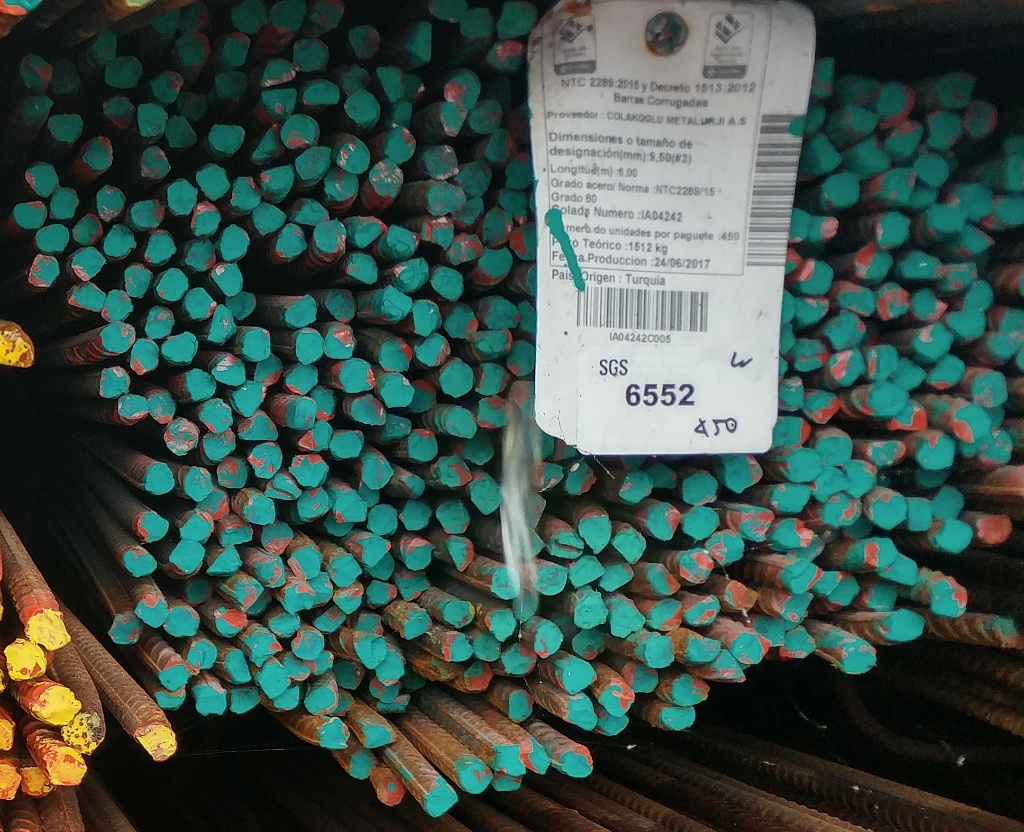dipstick: (777, 556, 826, 594), (641, 497, 684, 540), (719, 455, 765, 495), (730, 501, 774, 542), (433, 453, 475, 494), (974, 508, 1016, 549), (918, 427, 961, 466), (856, 382, 902, 418), (472, 245, 512, 286), (681, 590, 722, 630), (866, 489, 907, 529), (874, 281, 915, 321), (604, 599, 646, 638), (913, 323, 955, 362), (838, 101, 881, 139), (763, 482, 809, 517), (641, 561, 682, 600), (839, 278, 878, 319), (770, 519, 817, 553), (950, 290, 984, 337), (373, 371, 415, 409), (931, 518, 974, 555), (480, 296, 521, 334), (955, 183, 997, 220), (707, 649, 749, 686), (770, 588, 813, 623), (497, 5, 542, 38), (609, 525, 647, 564), (937, 69, 975, 108), (559, 656, 598, 694), (985, 187, 1024, 225), (422, 145, 459, 185), (478, 207, 518, 244), (899, 250, 939, 287), (471, 328, 513, 363), (840, 641, 882, 676), (405, 379, 443, 417), (576, 515, 614, 553), (444, 73, 483, 110), (675, 546, 715, 582), (645, 594, 686, 629), (850, 140, 891, 175), (457, 162, 495, 199), (830, 351, 867, 389), (875, 86, 913, 123), (925, 113, 963, 150), (976, 427, 1014, 464), (345, 216, 385, 251), (707, 529, 747, 564), (927, 355, 967, 390), (424, 182, 465, 216), (837, 73, 878, 107), (563, 462, 600, 499), (442, 405, 480, 441), (546, 525, 584, 561), (873, 210, 909, 248), (681, 471, 720, 506), (815, 429, 850, 468), (420, 782, 459, 817), (505, 340, 539, 380), (954, 404, 988, 444), (285, 547, 326, 580), (344, 251, 380, 288), (438, 361, 475, 397), (807, 139, 843, 176), (886, 120, 923, 156), (940, 259, 977, 295), (360, 453, 395, 491), (336, 358, 374, 393), (719, 579, 758, 613), (828, 314, 868, 347), (681, 506, 722, 538), (842, 458, 878, 494), (335, 135, 370, 172), (296, 145, 331, 182), (422, 214, 457, 251), (470, 101, 505, 138), (497, 188, 534, 223), (863, 345, 900, 380), (280, 582, 318, 616), (368, 164, 406, 198), (826, 172, 859, 211), (474, 397, 514, 429), (615, 471, 655, 503), (885, 610, 926, 641), (332, 490, 368, 525), (383, 225, 419, 260), (503, 154, 538, 190), (799, 259, 834, 295), (796, 338, 831, 374), (930, 583, 966, 618), (472, 362, 509, 396), (802, 389, 839, 423), (865, 578, 902, 612), (466, 480, 505, 512), (669, 676, 708, 708), (926, 203, 966, 234), (290, 453, 326, 487), (323, 169, 357, 205), (347, 24, 383, 58), (857, 248, 893, 282), (863, 536, 899, 570), (566, 696, 602, 730), (573, 592, 610, 625), (567, 557, 604, 590), (222, 650, 255, 687), (105, 60, 143, 92), (290, 197, 328, 229), (380, 65, 412, 103), (896, 403, 934, 435), (384, 127, 418, 162), (484, 605, 519, 639), (596, 559, 630, 594), (507, 592, 543, 625), (931, 487, 967, 520), (881, 168, 919, 199), (775, 418, 809, 452), (283, 396, 318, 429), (377, 409, 412, 442), (303, 79, 338, 112), (454, 232, 487, 267), (489, 38, 524, 71), (326, 430, 362, 462), (266, 472, 302, 504), (396, 255, 428, 291), (601, 684, 637, 716), (626, 662, 662, 694), (298, 486, 332, 519), (380, 338, 413, 372), (435, 105, 468, 139), (796, 293, 829, 327), (209, 124, 244, 156), (813, 469, 848, 501), (902, 498, 934, 533), (684, 636, 719, 668), (432, 266, 462, 303), (511, 222, 541, 259), (528, 618, 565, 648), (912, 156, 949, 186), (281, 118, 314, 151), (313, 222, 346, 255), (175, 33, 209, 65), (296, 41, 330, 73), (416, 334, 450, 366), (294, 330, 325, 365), (444, 535, 475, 570), (913, 290, 948, 321), (405, 25, 435, 61), (359, 717, 395, 747), (561, 747, 597, 777), (27, 165, 59, 198), (286, 297, 318, 330), (335, 580, 368, 612), (352, 396, 385, 428), (321, 326, 354, 358), (323, 288, 355, 321), (484, 130, 517, 162), (250, 131, 284, 162), (347, 93, 381, 124), (445, 304, 476, 338), (491, 565, 522, 599), (463, 8, 497, 39), (865, 540, 899, 571), (822, 574, 856, 605), (892, 358, 926, 389), (356, 636, 390, 667), (787, 453, 822, 483), (303, 687, 338, 717), (811, 58, 836, 99), (164, 333, 196, 365), (286, 364, 318, 396), (399, 537, 431, 569), (454, 195, 486, 227), (85, 33, 118, 64), (73, 247, 104, 280), (170, 543, 203, 574), (330, 555, 363, 586), (400, 499, 433, 530), (526, 427, 557, 460), (504, 689, 537, 720), (983, 330, 1014, 363), (214, 70, 248, 100), (243, 327, 273, 361), (806, 214, 840, 244), (597, 705, 631, 735), (435, 503, 470, 532), (514, 261, 543, 296), (730, 635, 765, 664), (85, 137, 116, 169), (357, 534, 389, 565), (444, 598, 476, 629), (197, 686, 228, 718), (96, 187, 126, 220), (104, 227, 134, 260), (302, 422, 332, 455), (380, 289, 413, 319), (411, 301, 441, 334), (533, 464, 566, 494), (259, 90, 294, 118), (870, 438, 905, 466), (783, 627, 820, 653), (966, 102, 992, 139), (199, 402, 231, 432), (215, 458, 247, 488), (250, 446, 282, 476), (222, 34, 252, 66), (366, 508, 398, 538), (259, 665, 291, 695), (440, 632, 472, 662), (254, 203, 287, 232), (339, 68, 372, 97), (643, 636, 676, 665), (405, 430, 439, 458), (464, 431, 492, 465), (508, 381, 535, 416), (461, 664, 496, 691), (664, 704, 699, 731), (164, 608, 200, 634), (883, 557, 919, 583), (788, 536, 827, 560), (102, 291, 132, 322), (208, 311, 238, 342), (212, 266, 243, 296), (188, 638, 219, 668), (336, 660, 367, 690), (230, 180, 262, 209), (211, 355, 243, 384), (318, 719, 350, 748), (496, 745, 525, 777), (824, 497, 857, 525), (169, 182, 196, 216), (241, 419, 276, 445), (233, 8, 268, 34), (104, 99, 134, 129), (123, 267, 153, 297), (183, 469, 213, 499), (475, 633, 505, 663), (130, 340, 159, 371), (145, 465, 176, 494), (232, 383, 263, 412), (533, 565, 564, 594), (952, 227, 981, 258), (460, 765, 491, 794), (516, 527, 544, 559), (777, 380, 805, 412), (307, 573, 334, 606), (109, 614, 144, 639), (198, 167, 228, 196), (146, 233, 175, 263), (104, 325, 133, 355), (253, 358, 282, 388), (993, 620, 1023, 649), (154, 73, 182, 104), (132, 201, 163, 229), (145, 308, 176, 336), (184, 373, 215, 401), (244, 497, 275, 525), (231, 578, 262, 606), (647, 465, 678, 493), (368, 552, 400, 579), (229, 686, 261, 713), (918, 464, 952, 489), (553, 615, 582, 644), (136, 107, 164, 137), (139, 146, 167, 176), (50, 192, 80, 220), (36, 225, 66, 253), (31, 256, 59, 286), (146, 392, 176, 420), (198, 492, 228, 520), (204, 433, 234, 461), (260, 525, 290, 553), (27, 60, 54, 91), (158, 270, 185, 301), (215, 608, 246, 635), (262, 62, 293, 89), (156, 680, 187, 707), (517, 299, 539, 337), (311, 6, 344, 31), (433, 1, 467, 25), (163, 119, 192, 147), (50, 61, 78, 90), (186, 242, 214, 271), (389, 99, 417, 128), (283, 654, 312, 682), (375, 776, 404, 804), (100, 368, 127, 398), (166, 422, 196, 449), (278, 226, 305, 256), (401, 572, 431, 599), (137, 599, 168, 625), (400, 613, 431, 639), (272, 6, 305, 30), (316, 606, 349, 630), (76, 286, 104, 314), (179, 94, 209, 120), (162, 661, 192, 687), (572, 625, 609, 646), (181, 516, 212, 541), (311, 388, 336, 419), (51, 116, 78, 144), (220, 229, 247, 257), (185, 579, 213, 606), (265, 167, 292, 195), (348, 749, 375, 777), (378, 653, 406, 680), (523, 746, 550, 774), (192, 206, 218, 235), (367, 581, 397, 606), (185, 291, 215, 316), (222, 525, 253, 549), (729, 630, 772, 647), (127, 550, 154, 577), (118, 395, 144, 423), (227, 292, 255, 318), (372, 678, 402, 702), (805, 104, 826, 138), (255, 561, 282, 587), (489, 771, 524, 791), (911, 184, 939, 208), (982, 401, 1006, 429), (311, 649, 336, 675), (210, 550, 238, 573), (554, 440, 582, 463), (970, 371, 993, 399), (402, 672, 434, 692), (332, 691, 357, 716), (999, 312, 1024, 337), (270, 615, 298, 637), (786, 209, 805, 241), (27, 93, 52, 117), (1004, 151, 1024, 181), (326, 514, 353, 536), (379, 696, 410, 715), (141, 516, 165, 540), (21, 204, 46, 227), (276, 689, 301, 712), (844, 516, 871, 537), (404, 476, 430, 497), (248, 628, 277, 646), (358, 483, 381, 505), (784, 288, 802, 316), (357, 615, 383, 634), (780, 326, 797, 354), (787, 250, 806, 274), (297, 631, 324, 647)
